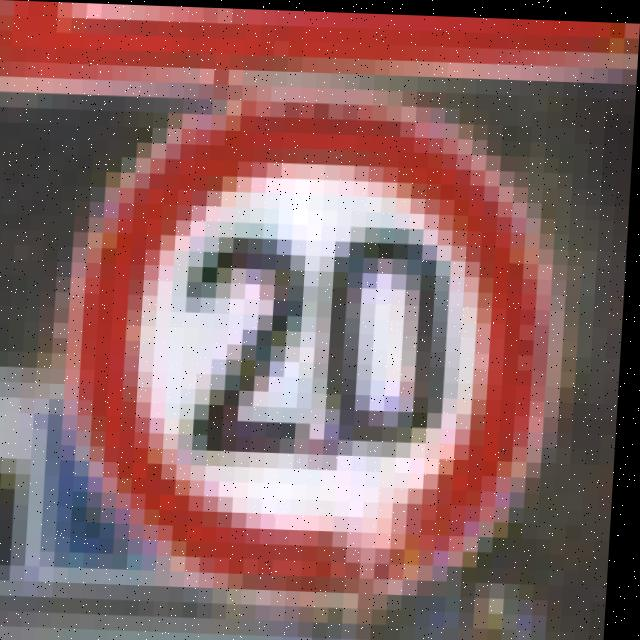speed_limit_20: (46, 90, 582, 617)
